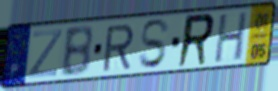B: (59, 23, 95, 79)
H: (212, 10, 250, 66)
R: (175, 12, 217, 71), (101, 22, 136, 74)
S: (137, 17, 172, 71)
Z: (26, 27, 65, 80)
